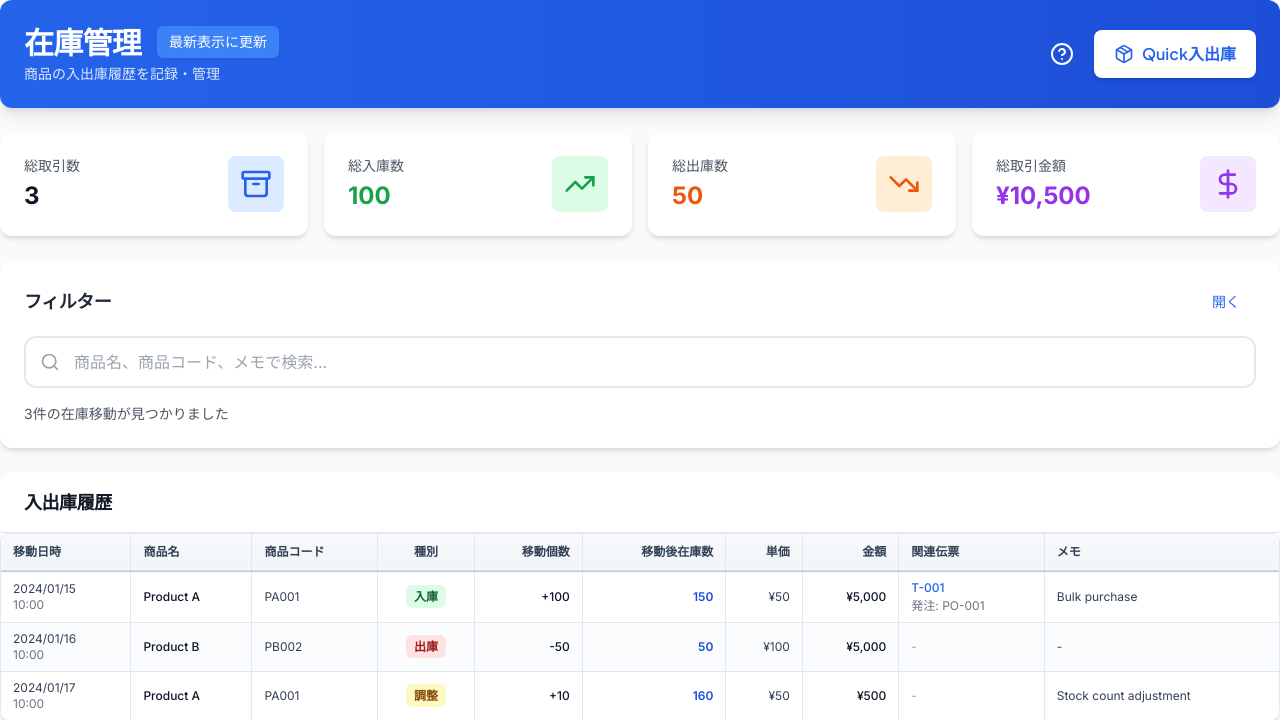
Test case: Inventory › Filters › should filter by search text
Expected: the text "Product A" is shown 2 times, [131,571,252,622]; [131,672,252,719]
Expected: the text "Product B" is shown, [131,622,252,672]
Type "Product A" into the field with placeholder "商品名、商品コード、メモで検索..." at point(640, 362), box [24,336,1256,388]
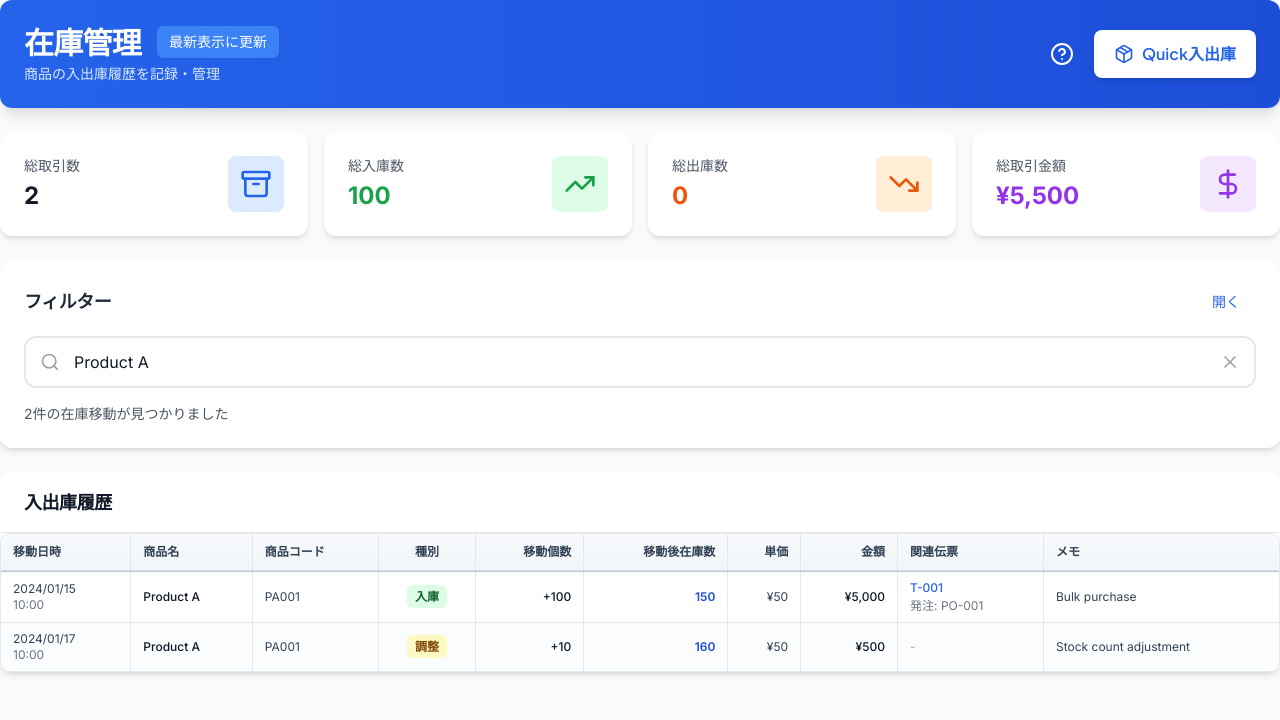
Expected: the text "Product A" is shown 2 times, [131,571,252,622]; [131,622,252,671]
Expected: the text "Product B" is gone
